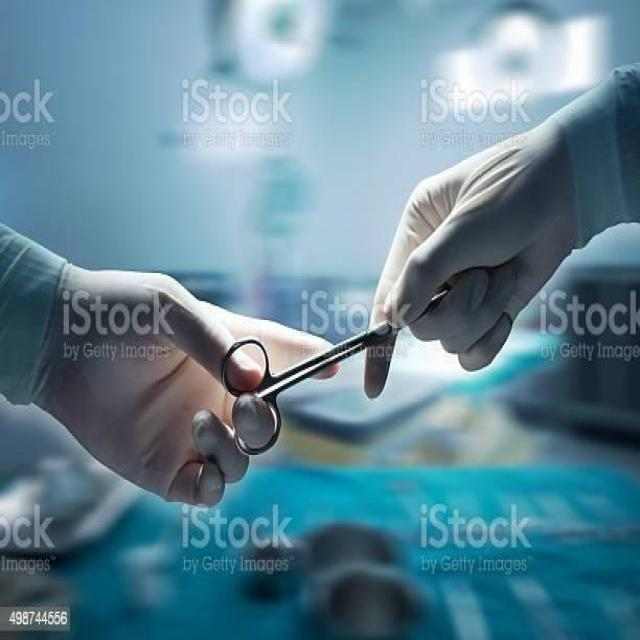scissors: (224, 284, 450, 457)
